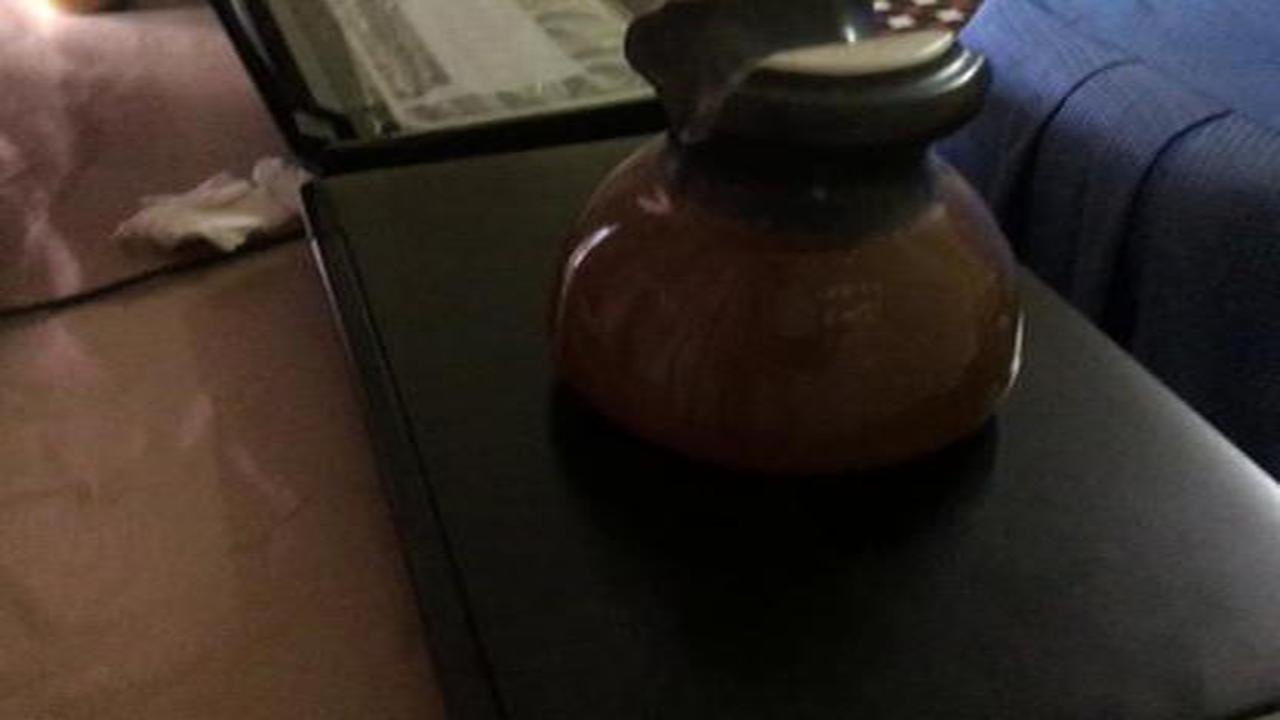insulator_pin: (545, 2, 1041, 482)
